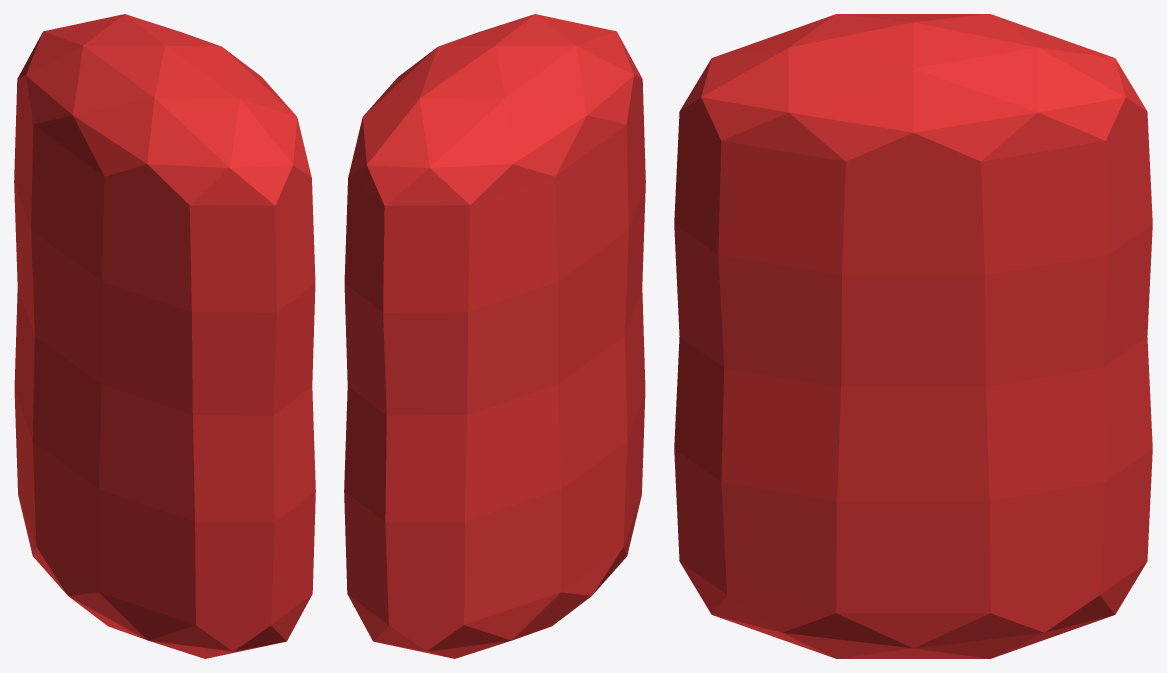
Rendered from Ruby.fbx.
The picture shows the model from 3 angles, left to right: view 1: azimuth 30°, elevation 25°; view 2: azimuth 150°, elevation 25°; view 3: azimuth 270°, elevation 25°; orthographic projection. The views are drawn at different scales.
Visible parts, largest first — view 1: Icosphere.001; view 2: Icosphere.001; view 3: Icosphere.001.
Part boxes in pixels (<box>): Icosphere.001: <box>14,14,315,658</box>; Icosphere.001: <box>344,14,645,658</box>; Icosphere.001: <box>674,14,1152,658</box>.
Bounding box in the file's own units: 99.22 × 278 × 192.
1 material, 1 textured.
